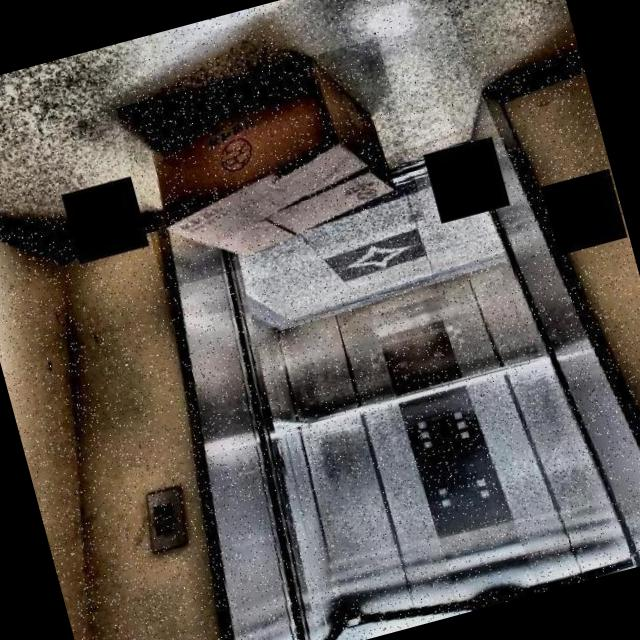box: (117, 38, 426, 289)
